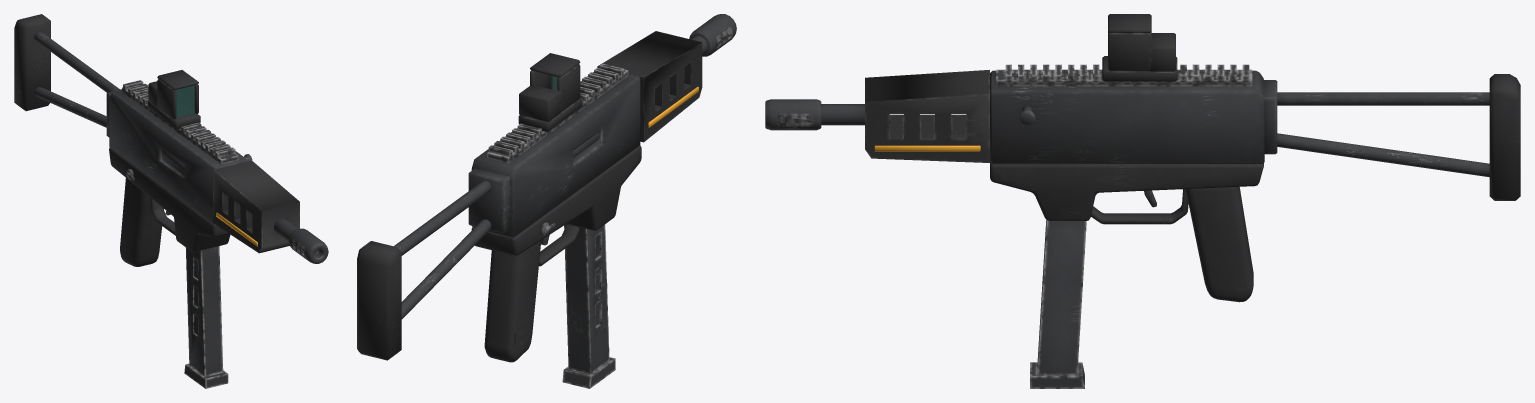
Rendered from smg.glb.
3 views of the same model, side by side, from view 1: azimuth 30°, elevation 25°; view 2: azimuth 150°, elevation 25°; view 3: azimuth 270°, elevation 25° (orthographic). The views are drawn at different scales.
Visible parts, largest first — view 1: Receiver, Handguard, Magazine, Lower, ButtPlate, Grip, Stock, HoloSight, TopRail, MuzzleDevice, HoloLens, TriggerGuard (+1 smaller); view 2: Receiver, Magazine, Handguard, Grip, ButtPlate, Lower, HoloSight, Stock, TopRail, StockHinge, MuzzleDevice, TriggerGuard (+1 smaller); view 3: Receiver, Handguard, Lower, Magazine, Stock, Grip, HoloSight, TopRail, ButtPlate, MuzzleDevice, TriggerGuard, StockHinge (+2 smaller).
Boxes of the visible parts, x1,y1,x2,y2 form: Receiver: (109, 87, 248, 222); Handguard: (213, 160, 299, 253); Magazine: (184, 246, 228, 388); Lower: (109, 148, 230, 251); ButtPlate: (14, 14, 50, 111); Grip: (120, 178, 163, 266); Stock: (34, 31, 119, 127); HoloSight: (148, 70, 200, 129); TopRail: (122, 80, 238, 164); MuzzleDevice: (288, 228, 328, 263); HoloLens: (176, 85, 194, 118); TriggerGuard: (150, 198, 175, 235); Receiver: (471, 68, 640, 237); Magazine: (562, 224, 615, 388); Handguard: (597, 31, 702, 142); Grip: (484, 240, 541, 362); ButtPlate: (357, 241, 401, 360); Lower: (471, 145, 641, 255); HoloSight: (518, 53, 582, 131); Stock: (394, 180, 491, 319); TopRail: (487, 63, 628, 163); StockHinge: (468, 168, 510, 233); MuzzleDevice: (689, 14, 736, 56); TriggerGuard: (539, 224, 579, 266); Receiver: (990, 70, 1264, 163); Handguard: (865, 70, 989, 162); Lower: (990, 162, 1263, 220); Magazine: (1030, 220, 1086, 388); Stock: (1277, 92, 1489, 177); Grip: (1185, 186, 1253, 302); HoloSight: (1102, 14, 1177, 81); TopRail: (996, 64, 1252, 86); ButtPlate: (1489, 74, 1520, 200); MuzzleDevice: (765, 99, 821, 130); TriggerGuard: (1091, 189, 1188, 224); StockHinge: (1263, 80, 1277, 154).
Size of the model in its own units: 0.065 by 0.3185 by 0.605.
4 materials, 2 textured.
